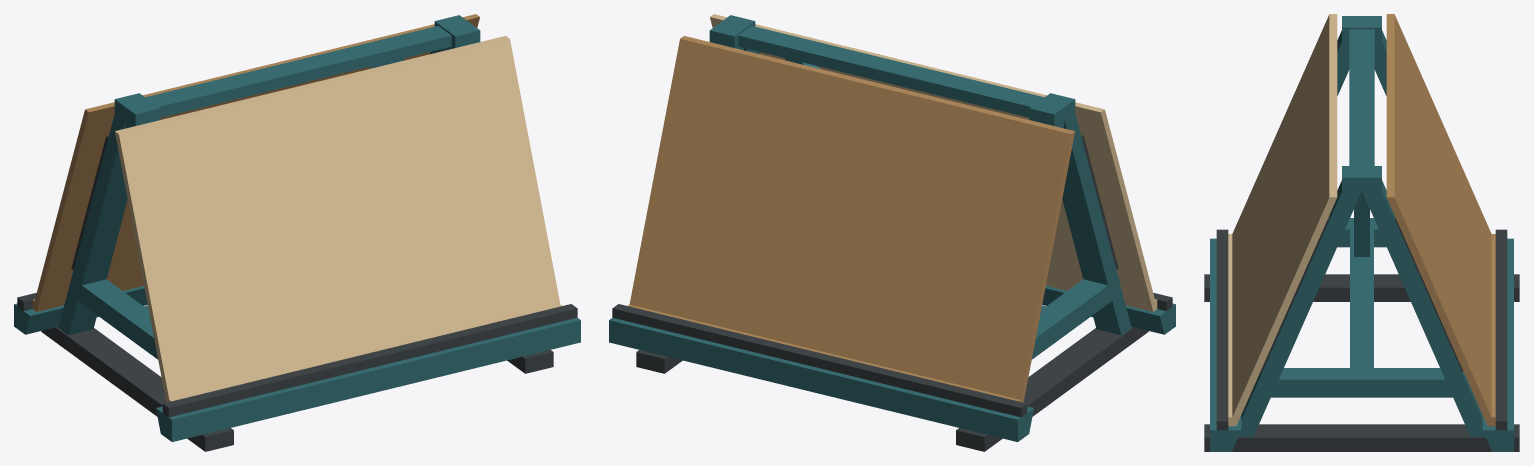
3 views of the same model, side by side, from view 1: azimuth 30°, elevation 25°; view 2: azimuth 150°, elevation 25°; view 3: azimuth 270°, elevation 25° (orthographic). The views are drawn at different scales.
Parts seen in each view (by area): view 1: Front_FixedInclinedBoard, Front_ContinuousBottomBearer, Back_FixedInclinedBoard, Upper_LongitudinalBeam, Front_ContinuousToeStop, End_0_Back_InclinedUpright, End_0_GroundRunner, End_0_LowerCrossTie, Back_ContinuousBottomBearer, End_0_ApexCap, End_1_ApexCap, End_1_GroundRunner; view 2: Back_FixedInclinedBoard, Back_ContinuousBottomBearer, Front_FixedInclinedBoard, Upper_LongitudinalBeam, Back_ContinuousToeStop, End_0_Front_InclinedUpright, End_0_GroundRunner, End_0_LowerCrossTie, Front_ContinuousBottomBearer, End_0_ApexCap, End_1_ApexCap, End_1_GroundRunner; view 3: Back_FixedInclinedBoard, Front_FixedInclinedBoard, End_1_GroundRunner, End_1_Back_InclinedUpright, End_1_Front_InclinedUpright, End_1_LowerCrossTie, Upper_LongitudinalBeam, Lower_LongitudinalBeam, Back_ContinuousToeStop, Front_ContinuousToeStop, End_0_GroundRunner, Back_ContinuousBottomBearer (+9 smaller).
Part boxes in pixels (box(x1,y1,x2,y2)): Front_FixedInclinedBoard: box(115, 36, 561, 402); Front_ContinuousBottomBearer: box(156, 317, 580, 441); Back_FixedInclinedBoard: box(32, 14, 479, 311); Upper_LongitudinalBeam: box(145, 26, 451, 117); Front_ContinuousToeStop: box(162, 304, 577, 417); End_0_Back_InclinedUpright: box(58, 114, 127, 335); End_0_GroundRunner: box(41, 326, 233, 451); End_0_LowerCrossTie: box(77, 279, 158, 359); Back_ContinuousBottomBearer: box(14, 286, 147, 334); End_0_ApexCap: box(114, 93, 160, 126); End_1_ApexCap: box(434, 15, 480, 48); End_1_GroundRunner: box(507, 350, 553, 373); Back_FixedInclinedBoard: box(628, 36, 1074, 402); Back_ContinuousBottomBearer: box(609, 317, 1033, 441); Front_FixedInclinedBoard: box(710, 14, 1157, 311); Upper_LongitudinalBeam: box(738, 26, 1044, 117); Back_ContinuousToeStop: box(612, 304, 1027, 417); End_0_Front_InclinedUpright: box(1062, 114, 1131, 335); End_0_GroundRunner: box(956, 326, 1148, 451); End_0_LowerCrossTie: box(1031, 279, 1112, 359); Front_ContinuousBottomBearer: box(1042, 286, 1175, 334); End_0_ApexCap: box(1029, 93, 1075, 126); End_1_ApexCap: box(709, 15, 755, 48); End_1_GroundRunner: box(636, 350, 682, 373); Back_FixedInclinedBoard: box(1386, 14, 1495, 426); Front_FixedInclinedBoard: box(1228, 14, 1337, 426); End_1_GroundRunner: box(1204, 424, 1519, 451); End_1_Back_InclinedUpright: box(1362, 180, 1485, 436); End_1_Front_InclinedUpright: box(1238, 180, 1361, 436); End_1_LowerCrossTie: box(1271, 368, 1452, 397); Upper_LongitudinalBeam: box(1349, 29, 1374, 165); Lower_LongitudinalBeam: box(1350, 229, 1373, 367); Back_ContinuousToeStop: box(1495, 229, 1507, 430); Front_ContinuousToeStop: box(1216, 229, 1228, 430); End_0_GroundRunner: box(1204, 274, 1519, 301); Back_ContinuousBottomBearer: box(1482, 238, 1513, 451).
Bounding box in the file's own units: 2.3 × 1.53 × 1.6.
